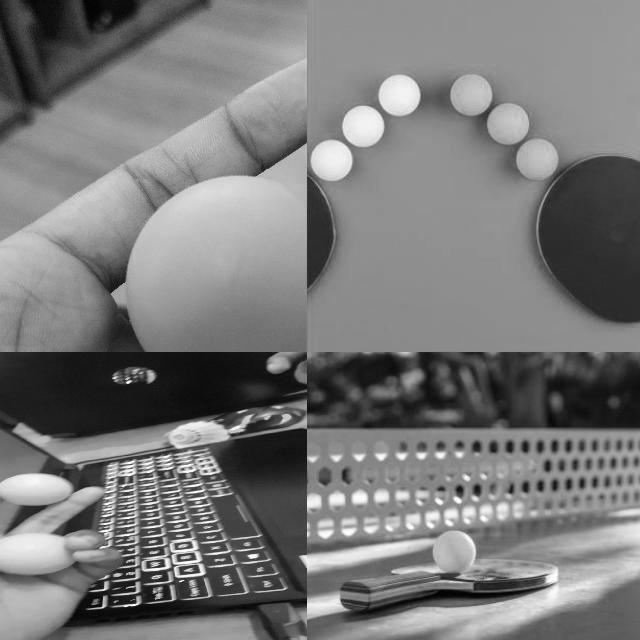ping-pong-ball: (124, 176, 306, 351), (0, 533, 76, 576), (0, 474, 73, 506), (431, 530, 474, 572), (448, 74, 490, 114), (377, 74, 419, 114), (340, 106, 382, 146), (310, 140, 352, 180), (516, 140, 558, 178), (487, 105, 527, 144)
